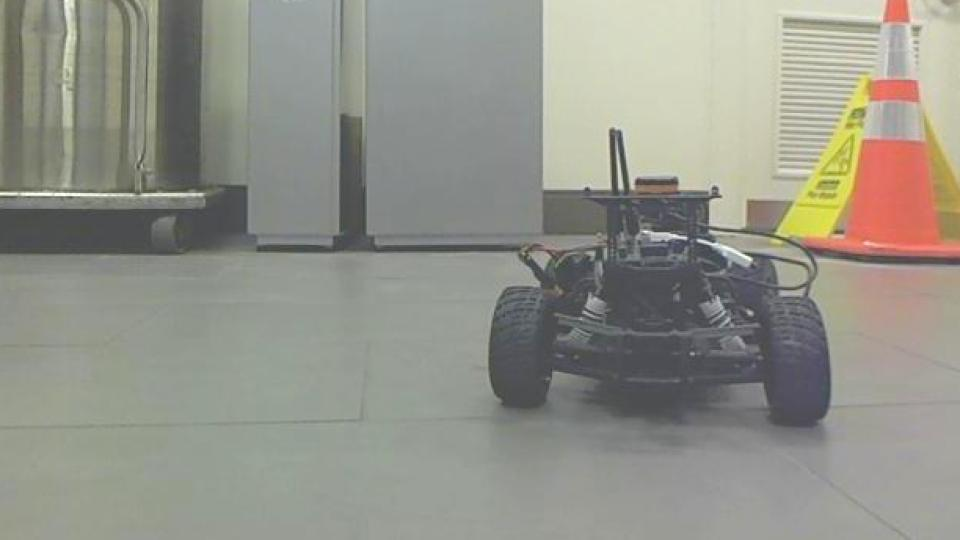car: (485, 126, 836, 428)
